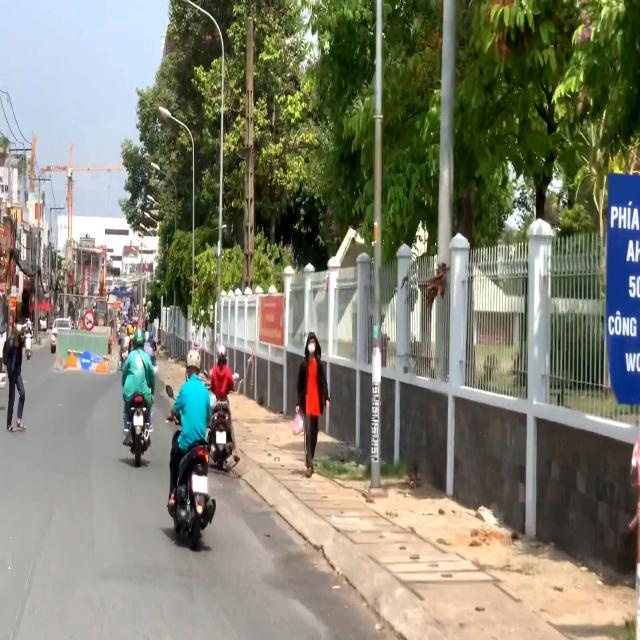bien_chi_dan: (84, 312, 95, 331), (66, 350, 77, 368), (81, 352, 91, 370)
